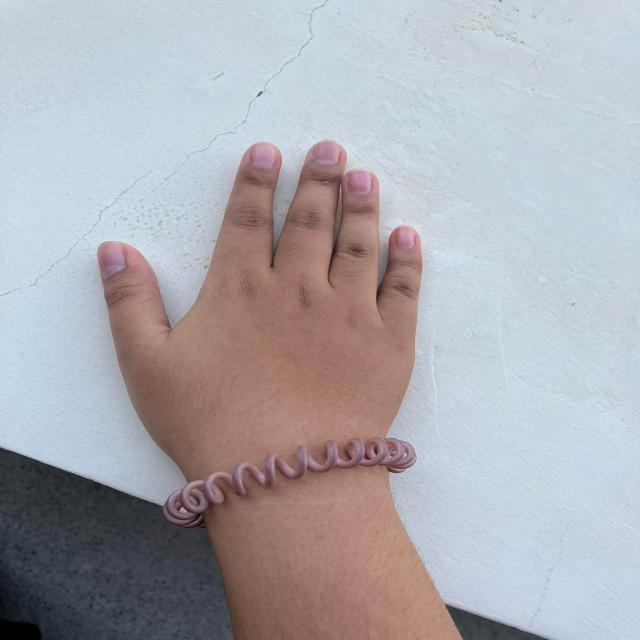hand: (96, 135, 425, 448)
